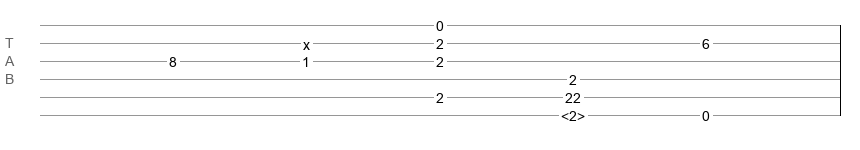0: (436, 18, 444, 28), (702, 108, 710, 118)
1: (302, 54, 310, 64)
2: (436, 90, 444, 100), (436, 54, 444, 64), (436, 36, 444, 46), (569, 72, 577, 82)
22: (565, 90, 581, 100)
6: (702, 36, 710, 46)
8: (169, 54, 177, 64)
harmonic: (561, 108, 585, 118)
x: (303, 37, 310, 45)
